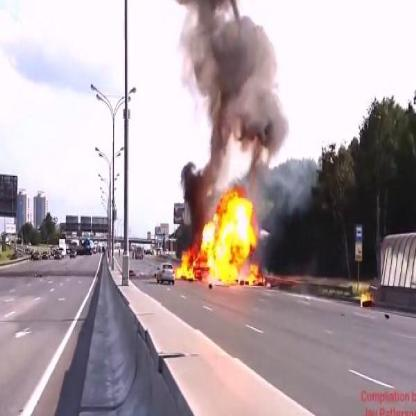fire: (171, 188, 266, 289)
